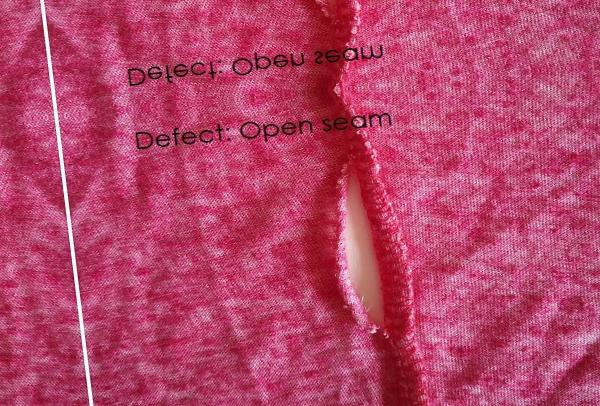hole: (326, 154, 400, 344)
